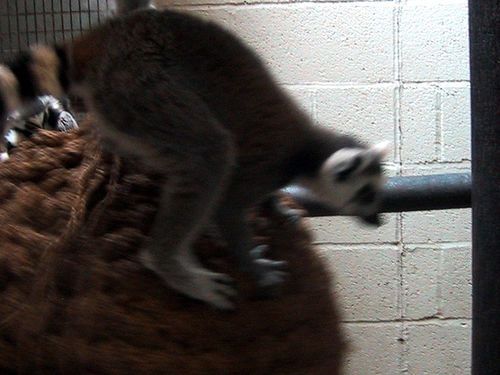cat: (1, 7, 396, 314)
